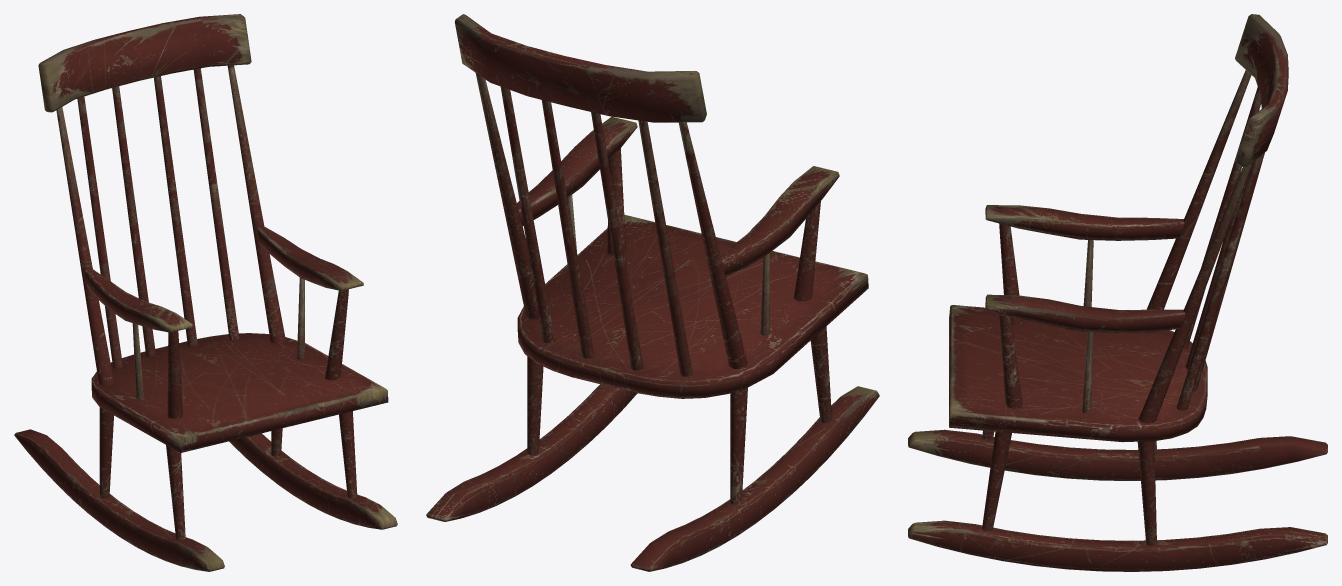
3 renders of one model, left to right at view 1: azimuth 30°, elevation 25°; view 2: azimuth 150°, elevation 25°; view 3: azimuth 270°, elevation 25°, orthographic. The views are drawn at different scales.
Visible parts, largest first — view 1: Object_2; view 2: Object_2; view 3: Object_2.
Part boxes in pixels (box(x1,y1,x2,y2)): Object_2: box(14, 14, 397, 571); Object_2: box(426, 14, 879, 571); Object_2: box(908, 14, 1327, 571).
Size of the model in its own units: 0.6156 by 1.2 by 1.
Materials: 1 (1 with a texture image).
